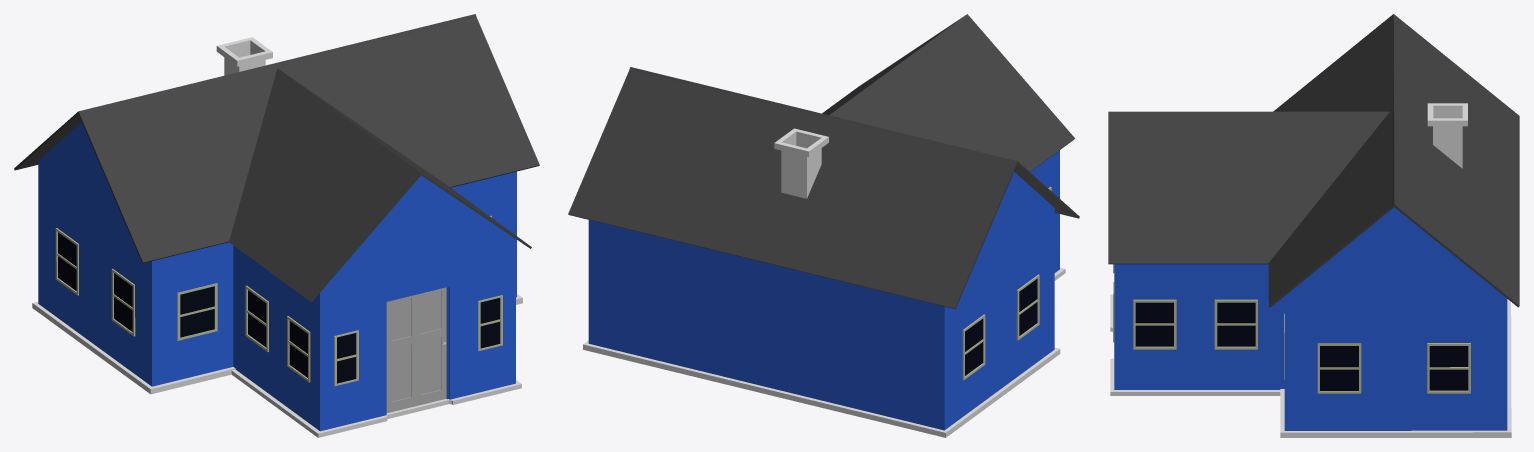
File: HouseN0.0.4.fbx
The picture shows the model from 3 angles, left to right: view 1: azimuth 30°, elevation 25°; view 2: azimuth 150°, elevation 25°; view 3: azimuth 270°, elevation 25°; orthographic projection. The views are drawn at different scales.
Visible parts, largest first — view 1: Plane.010; view 2: Plane.010; view 3: Plane.010.
Boxes of the visible parts, x1=… form: Plane.010: x1=14, y1=14, x2=539, y2=437; Plane.010: x1=568, y1=14, x2=1079, y2=437; Plane.010: x1=1108, y1=14, x2=1519, y2=437.
Size of the model in its own units: 862 by 505 by 788.
